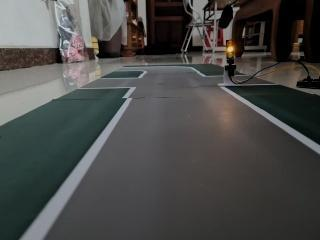yellow: (220, 35, 242, 64)
